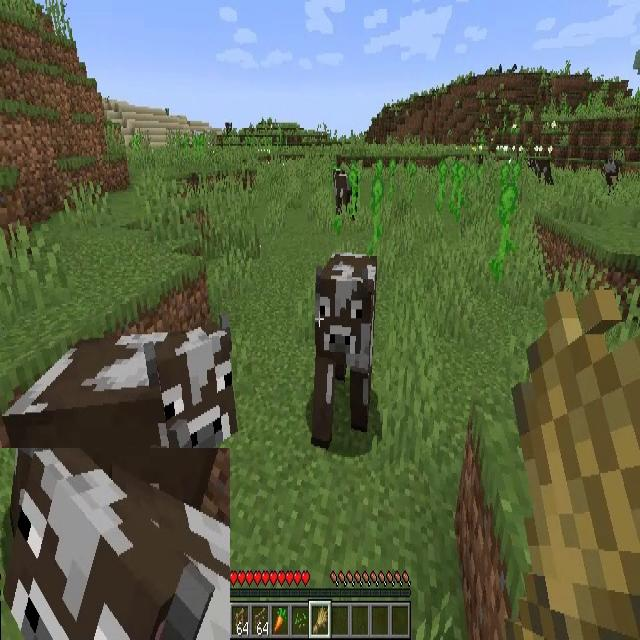cow: (6, 328, 225, 537), (0, 448, 230, 640), (316, 253, 376, 446), (332, 169, 360, 215), (528, 158, 554, 188), (602, 160, 622, 193)
